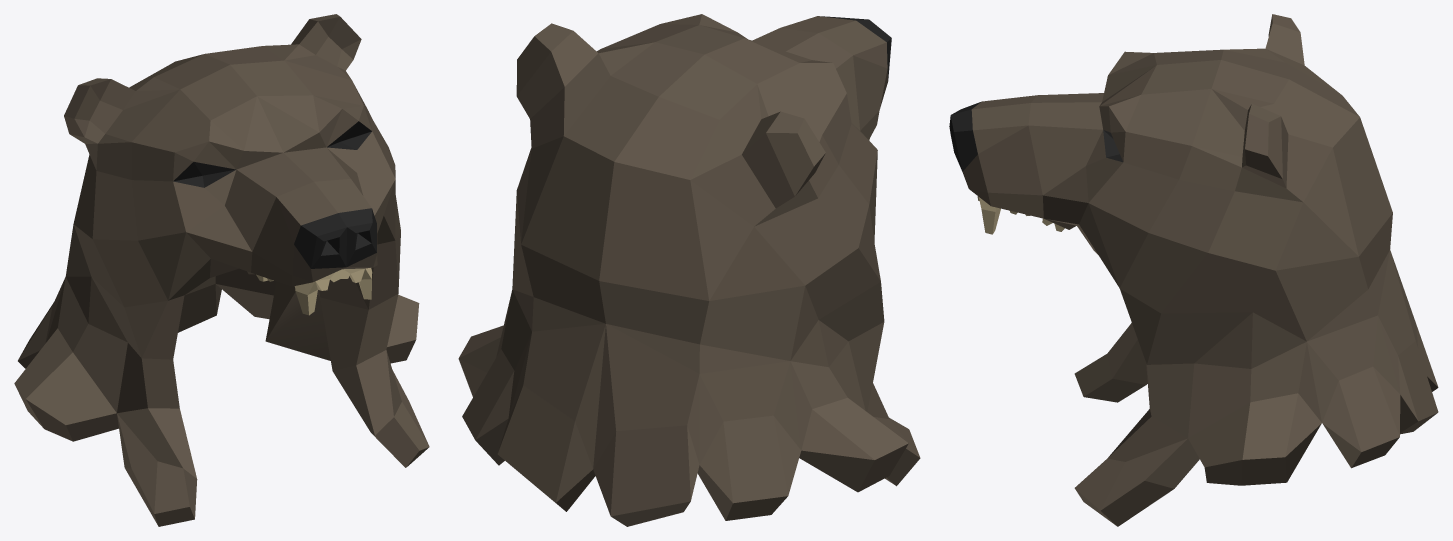
Rendered from Chr_HeadCoverings_No_Hair_09_Static.fbx.
The picture shows the model from 3 angles, left to right: view 1: azimuth 30°, elevation 25°; view 2: azimuth 150°, elevation 25°; view 3: azimuth 270°, elevation 25°; orthographic projection. The views are drawn at different scales.
Visible parts, largest first — view 1: Chr_HeadCoverings_No_Hair_09_Static; view 2: Chr_HeadCoverings_No_Hair_09_Static; view 3: Chr_HeadCoverings_No_Hair_09_Static.
Boxes of the visible parts, left/top/right/bottom form: Chr_HeadCoverings_No_Hair_09_Static: left=14, top=14, right=429, bottom=526; Chr_HeadCoverings_No_Hair_09_Static: left=458, top=14, right=920, bottom=526; Chr_HeadCoverings_No_Hair_09_Static: left=949, top=14, right=1438, bottom=526.
Bounding box in the file's own units: 0.5383 × 0.5269 × 0.5675.
